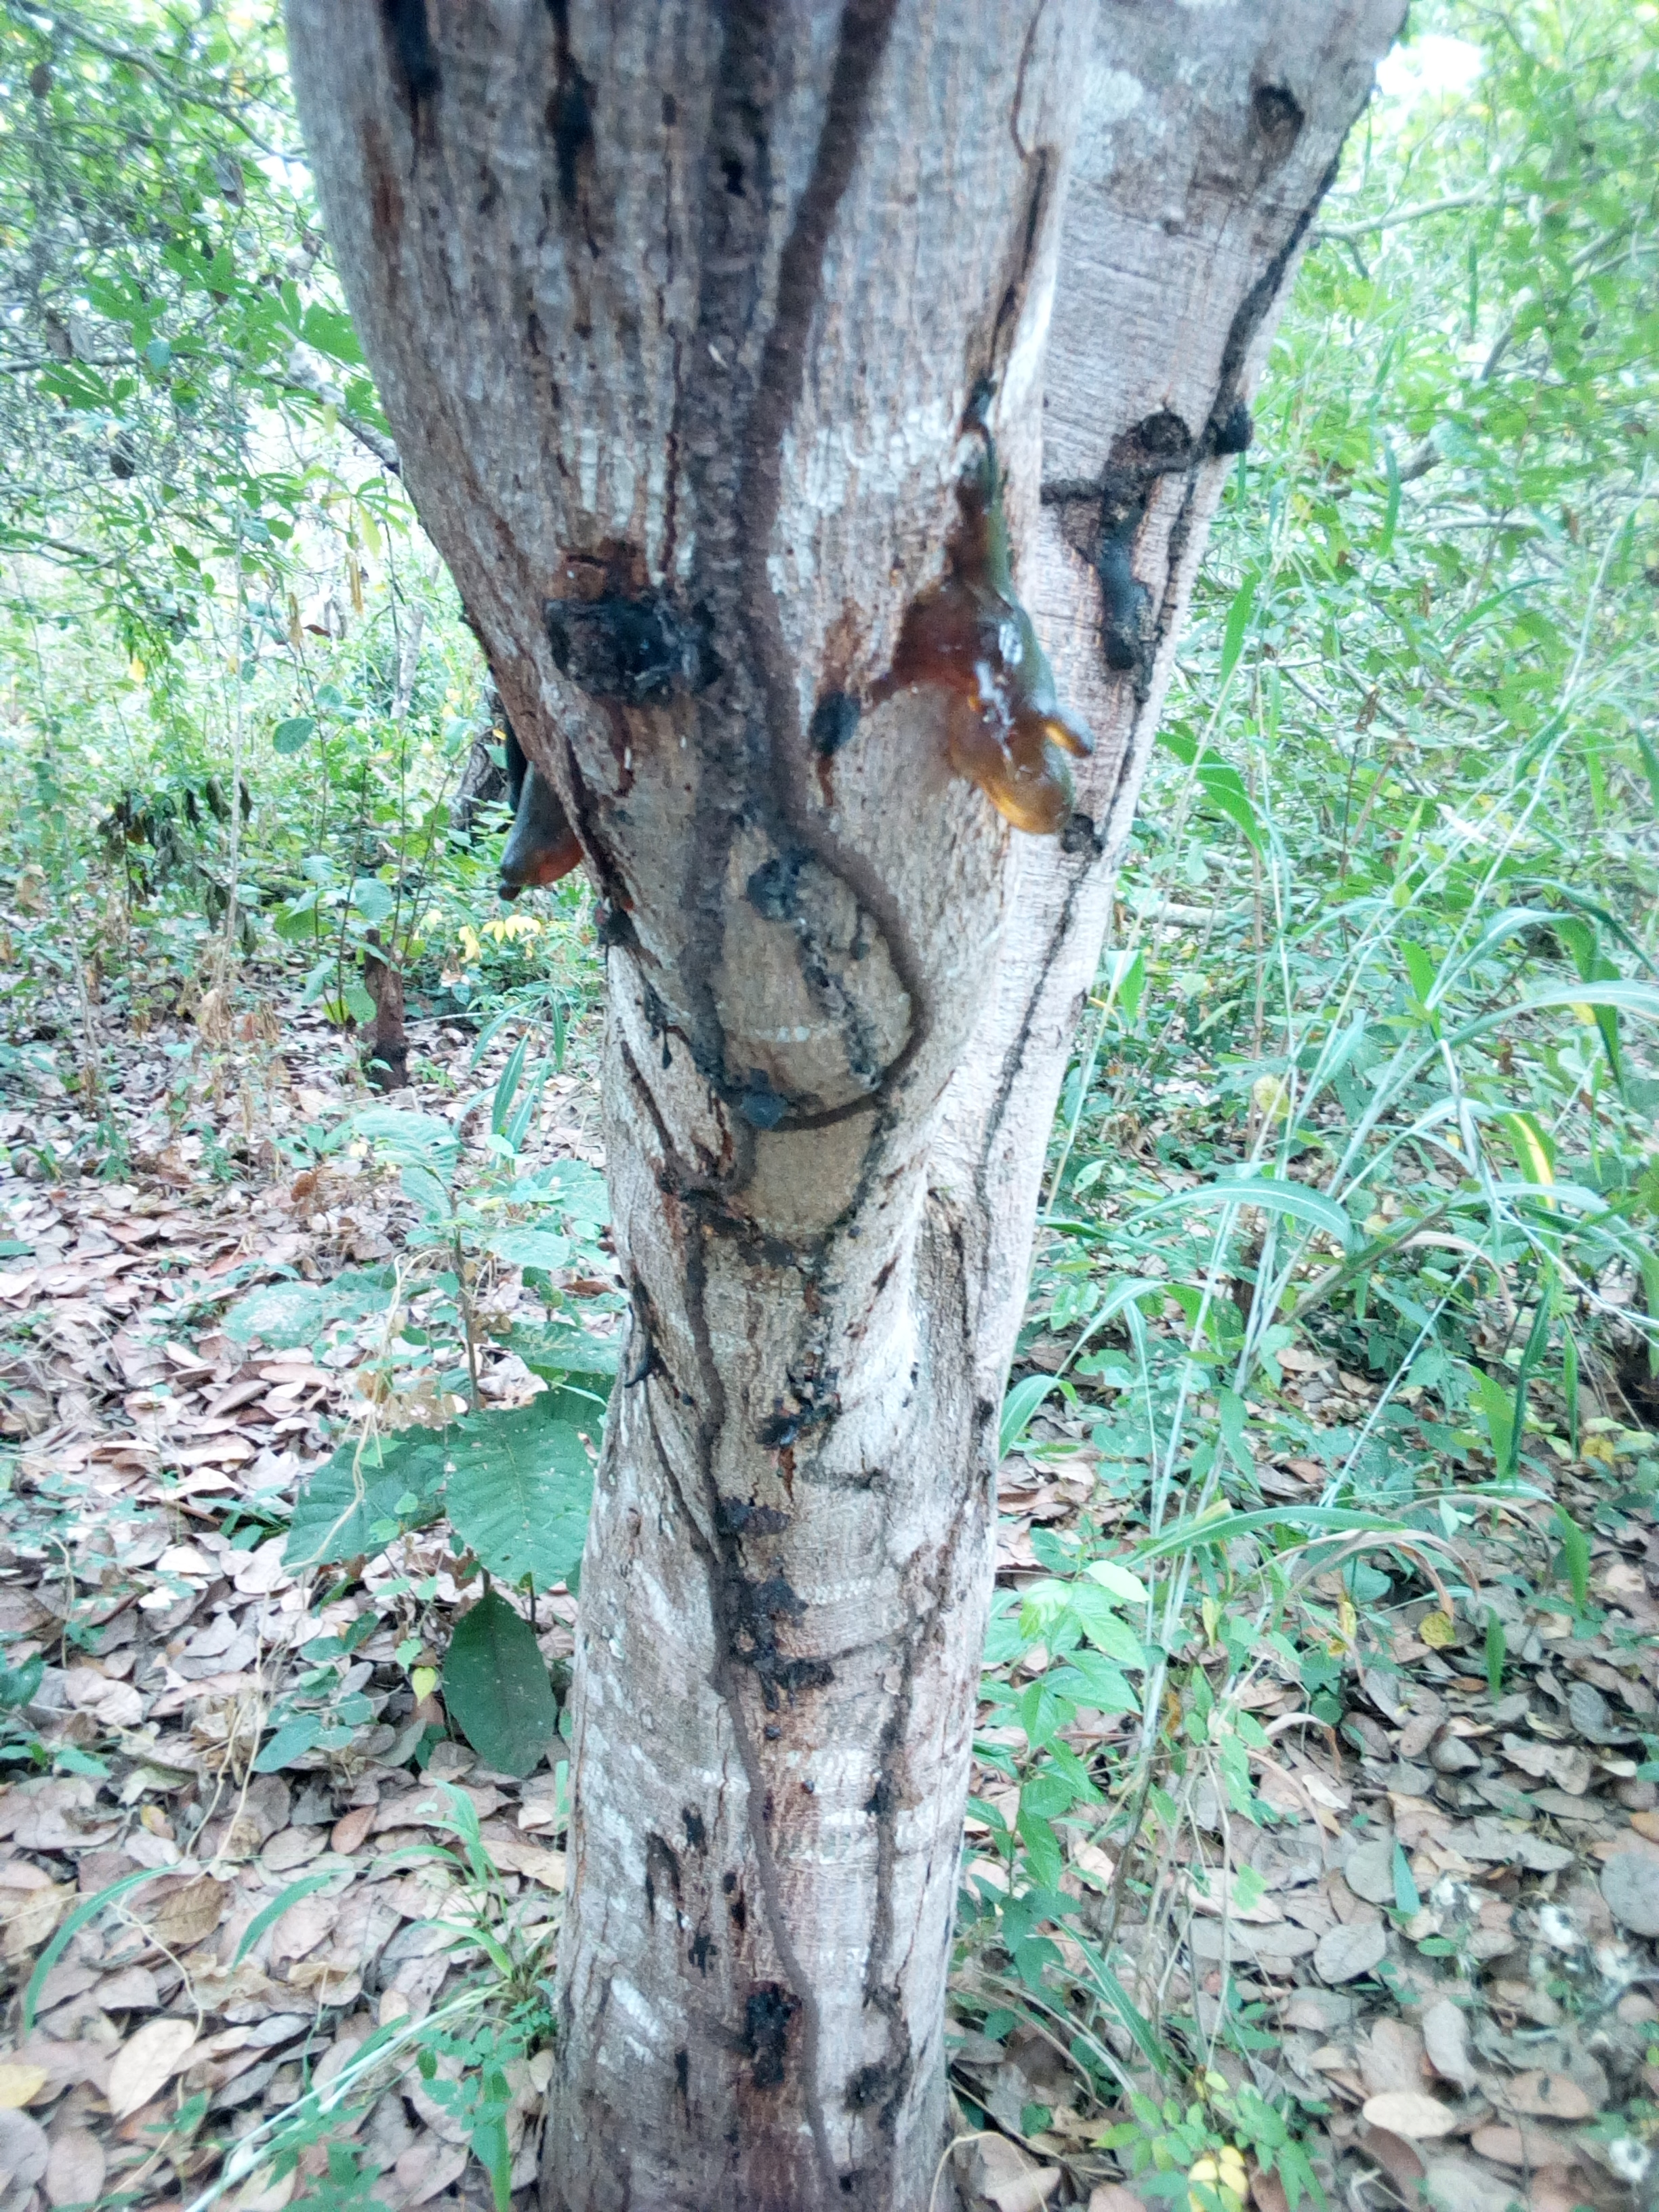Termites: (690, 2, 924, 1137), (701, 1292, 854, 2212)
